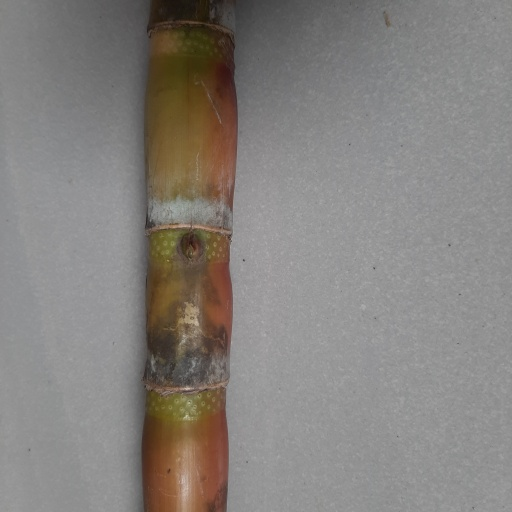Bud: (179, 232, 203, 263)
